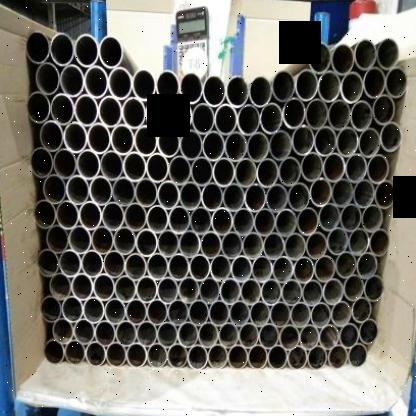pipe: (108, 65, 133, 100), (98, 34, 123, 69), (36, 60, 60, 96), (74, 32, 98, 68), (330, 41, 355, 75), (84, 64, 109, 98), (25, 30, 50, 64), (132, 67, 157, 101), (49, 32, 74, 66), (155, 69, 180, 102), (39, 119, 64, 152), (97, 94, 122, 127), (179, 70, 203, 104), (60, 63, 84, 97), (376, 36, 400, 70), (353, 37, 377, 71), (26, 91, 51, 123), (52, 147, 77, 179), (191, 102, 215, 135), (307, 41, 331, 74), (282, 96, 306, 129), (304, 97, 328, 130), (145, 97, 169, 130), (74, 93, 98, 126), (202, 73, 226, 106), (50, 92, 74, 125), (341, 69, 364, 103), (134, 124, 158, 156), (145, 151, 169, 183), (76, 148, 100, 180), (87, 122, 111, 154), (214, 103, 238, 135), (259, 102, 283, 134), (327, 98, 351, 130), (30, 146, 54, 178), (317, 70, 341, 102), (272, 69, 295, 102), (372, 93, 395, 126), (226, 74, 249, 107), (363, 65, 385, 99), (179, 129, 203, 160), (300, 151, 324, 182), (63, 121, 87, 152), (156, 179, 180, 210), (246, 131, 270, 162), (249, 74, 272, 106), (100, 149, 123, 181), (111, 123, 134, 155), (269, 129, 292, 161), (169, 99, 192, 131), (122, 96, 145, 128), (295, 69, 318, 101), (237, 103, 260, 135), (292, 124, 314, 157), (89, 175, 113, 205), (78, 200, 102, 230), (256, 157, 279, 188), (190, 156, 213, 187), (202, 130, 225, 161), (287, 181, 310, 212), (43, 173, 66, 204), (314, 125, 337, 156), (224, 131, 247, 162), (234, 157, 257, 188), (157, 126, 180, 157), (66, 174, 89, 205), (56, 199, 79, 230), (318, 202, 341, 233), (380, 121, 402, 153), (358, 126, 380, 158), (350, 99, 372, 131), (385, 66, 407, 98), (33, 199, 57, 228), (168, 155, 191, 185), (168, 204, 191, 234), (112, 176, 135, 206), (123, 151, 146, 181), (135, 227, 158, 257), (278, 156, 301, 186), (222, 182, 245, 212), (309, 177, 332, 207), (352, 178, 375, 208), (124, 201, 146, 232), (336, 126, 358, 157), (345, 152, 367, 183), (367, 152, 388, 184), (101, 201, 124, 230), (146, 204, 169, 233), (178, 229, 201, 258), (244, 183, 267, 212), (305, 230, 328, 259), (113, 226, 136, 255), (124, 251, 147, 280), (46, 224, 69, 253), (91, 225, 114, 254), (179, 181, 201, 211), (135, 177, 157, 207), (323, 152, 345, 182), (213, 157, 235, 187), (266, 183, 288, 213), (232, 207, 254, 237), (69, 224, 91, 254), (190, 205, 212, 235), (157, 228, 179, 258), (339, 202, 361, 232), (283, 232, 306, 260), (114, 274, 137, 302), (92, 273, 115, 301), (146, 252, 169, 280), (81, 249, 104, 277), (201, 182, 223, 211), (297, 206, 319, 235), (275, 208, 297, 237), (293, 255, 315, 284), (374, 179, 396, 208), (230, 254, 252, 283), (343, 273, 365, 302), (331, 178, 353, 207), (327, 226, 348, 256), (361, 203, 382, 233), (37, 249, 60, 276), (189, 253, 211, 281), (103, 250, 125, 278), (136, 275, 158, 303), (251, 255, 273, 283), (71, 272, 93, 300), (280, 278, 302, 306), (104, 297, 126, 325), (322, 277, 344, 305), (146, 298, 168, 326), (167, 298, 189, 326), (49, 272, 71, 300), (269, 300, 291, 328), (219, 277, 241, 305), (115, 319, 137, 347), (212, 207, 233, 236), (263, 231, 284, 260), (335, 250, 356, 279), (178, 275, 199, 304), (348, 227, 369, 256), (83, 296, 105, 323), (59, 249, 81, 276), (125, 298, 147, 325), (208, 299, 230, 326), (40, 295, 62, 322), (52, 317, 74, 344), (136, 320, 158, 347), (249, 300, 271, 327), (94, 319, 116, 346), (278, 323, 300, 350), (200, 230, 221, 258), (254, 208, 275, 236), (242, 231, 263, 259), (314, 254, 335, 282), (356, 251, 377, 279), (240, 277, 261, 305), (199, 276, 220, 304), (363, 274, 384, 302), (369, 228, 390, 256), (272, 255, 293, 283), (62, 295, 83, 323), (229, 299, 250, 327), (351, 296, 372, 324), (258, 322, 279, 350), (238, 321, 259, 349), (156, 321, 178, 347), (64, 339, 86, 365), (73, 318, 95, 344), (168, 253, 189, 280), (221, 231, 242, 258), (157, 276, 178, 303), (210, 254, 231, 281), (188, 299, 209, 326), (302, 279, 323, 306), (260, 278, 281, 305), (218, 321, 239, 348), (290, 301, 311, 328), (310, 301, 331, 328), (227, 343, 248, 370), (85, 340, 106, 367), (207, 343, 228, 370), (167, 342, 188, 369), (331, 299, 351, 327), (178, 320, 198, 348), (43, 339, 65, 364), (267, 344, 288, 370), (105, 341, 126, 367), (247, 344, 268, 370), (198, 321, 218, 348), (319, 323, 339, 350), (299, 323, 319, 350), (188, 343, 208, 370), (359, 318, 378, 346), (126, 342, 147, 367), (147, 342, 167, 368), (339, 322, 359, 348), (348, 343, 368, 368), (307, 345, 327, 370), (328, 344, 348, 369), (287, 345, 307, 370)
